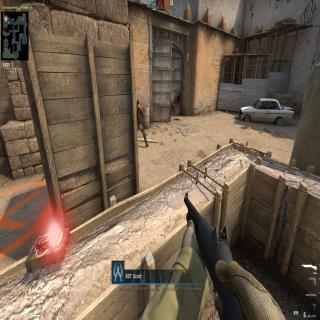T-Head: (136, 99, 140, 107)
